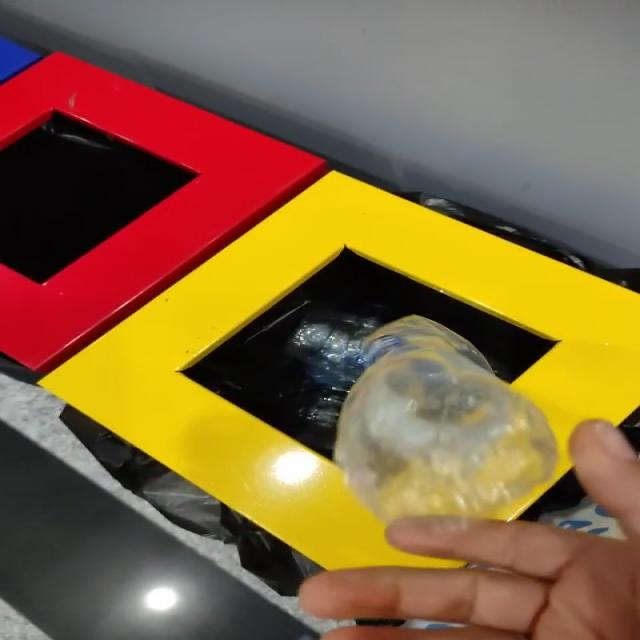plastic: (335, 316, 557, 523)
